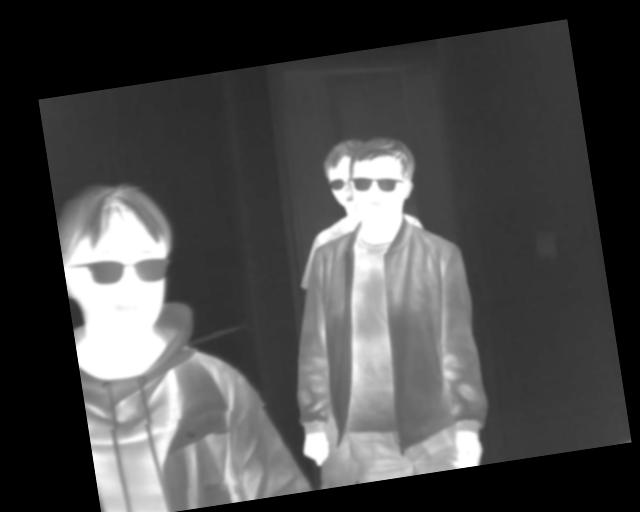face: (54, 173, 185, 343), (343, 131, 424, 233)
